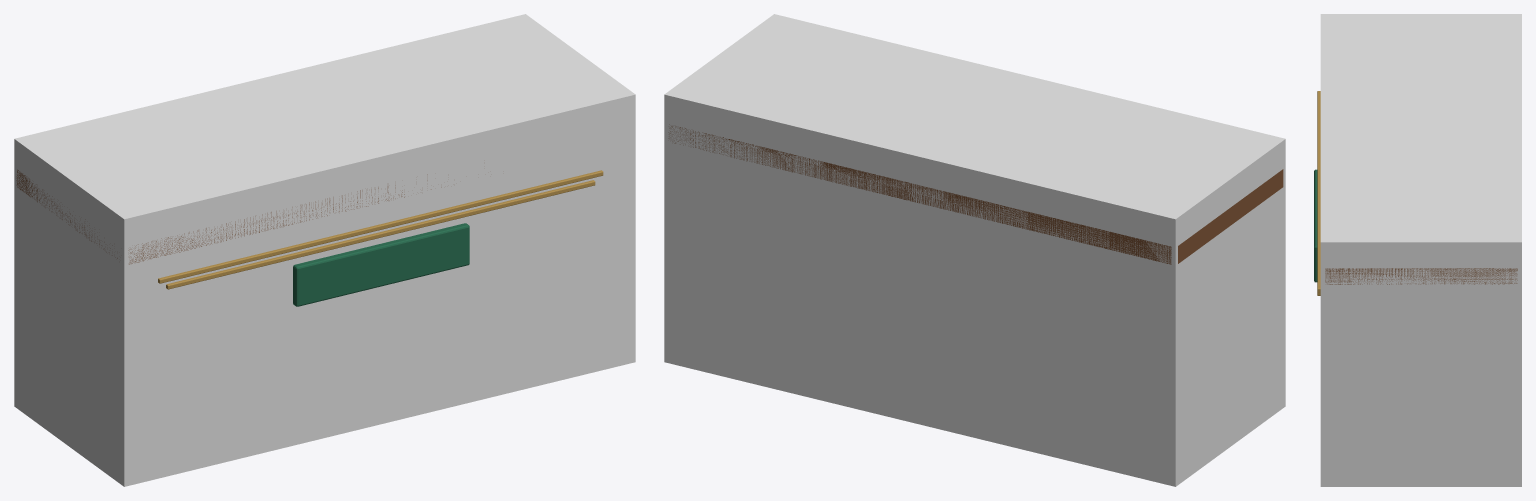
File: reception-desk_luxury.glb
3 renders of one model, left to right at view 1: azimuth 30°, elevation 25°; view 2: azimuth 150°, elevation 25°; view 3: azimuth 270°, elevation 25°, orthographic. The views are drawn at different scales.
Visible parts, largest first — view 1: COL_reception-desk, MESH_ServiceScreen, MESH_TierTrim_01, MESH_TierTrim_02, MESH_Worktop; view 2: COL_reception-desk, MESH_Worktop; view 3: COL_reception-desk, MESH_Worktop, MESH_TierTrim_01, MESH_ServiceScreen.
Boxes of the visible parts, x1,y1,x2,y2 form: COL_reception-desk: [14, 14, 635, 486]; MESH_ServiceScreen: [293, 223, 469, 306]; MESH_TierTrim_01: [158, 170, 603, 283]; MESH_TierTrim_02: [166, 180, 595, 289]; MESH_Worktop: [16, 169, 441, 264]; COL_reception-desk: [664, 14, 1285, 486]; MESH_Worktop: [668, 124, 1283, 264]; COL_reception-desk: [1320, 14, 1521, 486]; MESH_Worktop: [1325, 268, 1517, 284]; MESH_TierTrim_01: [1317, 91, 1320, 292]; MESH_ServiceScreen: [1314, 169, 1317, 282].
Bounding box in the file's own units: 2.2 × 1.1 × 0.8466.
